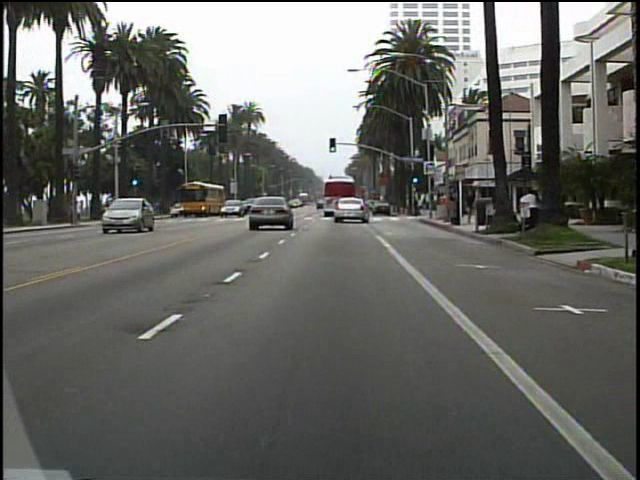person: (519, 185, 540, 235), (463, 186, 474, 226)
